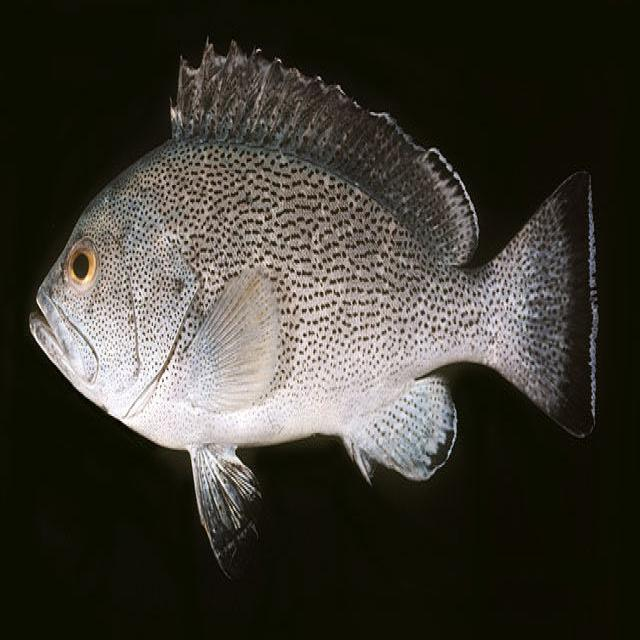ikan: (17, 26, 625, 596)
